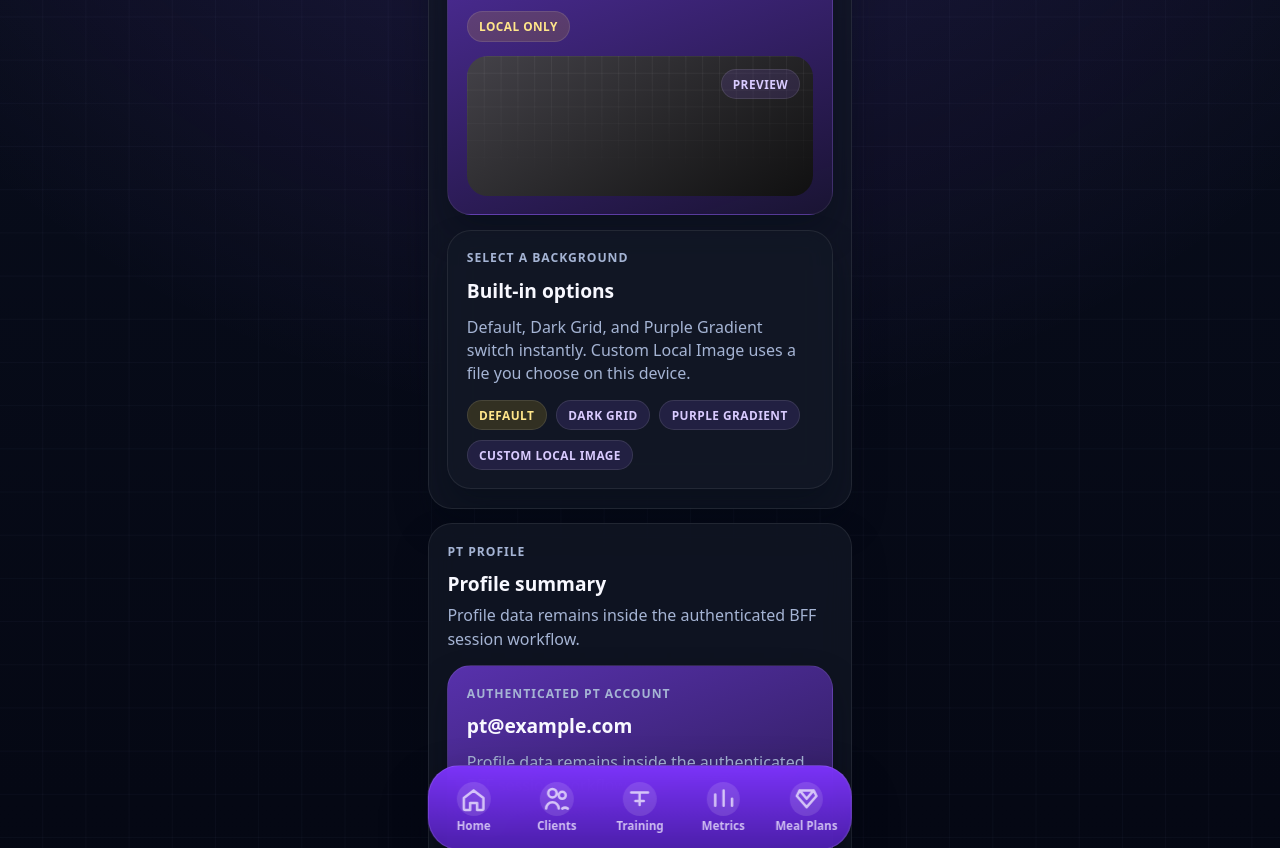
Scenario: PTSettingsPage mobile experience › preserves the existing /api/me PATCH payload shape and success feedback
(page scrolled)
Click the button "Dark Grid" at (603, 415), box [556,400,650,430]
(page scrolled)
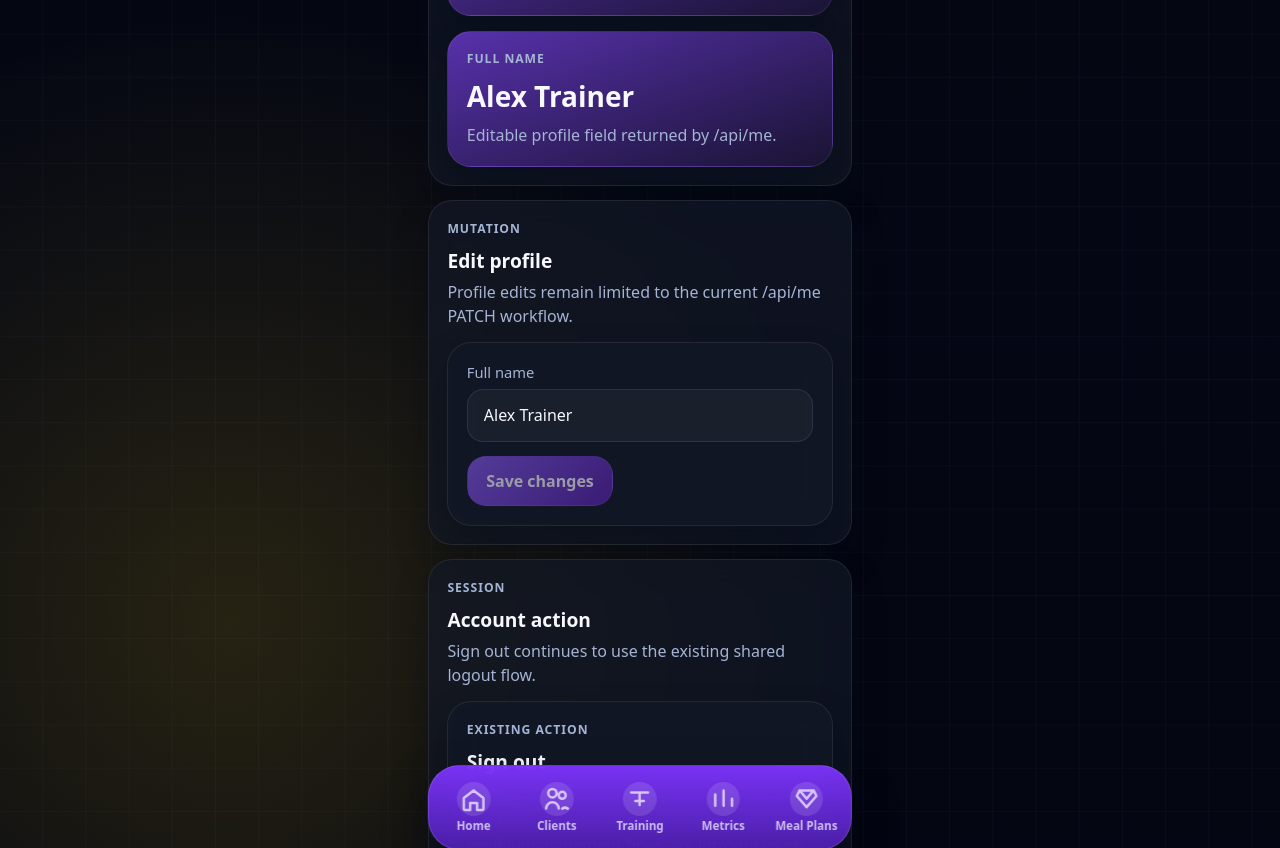
Replace the text in the field labelled "Full name" with "Alex Prime" at (640, 415), box [467,388,813,441]
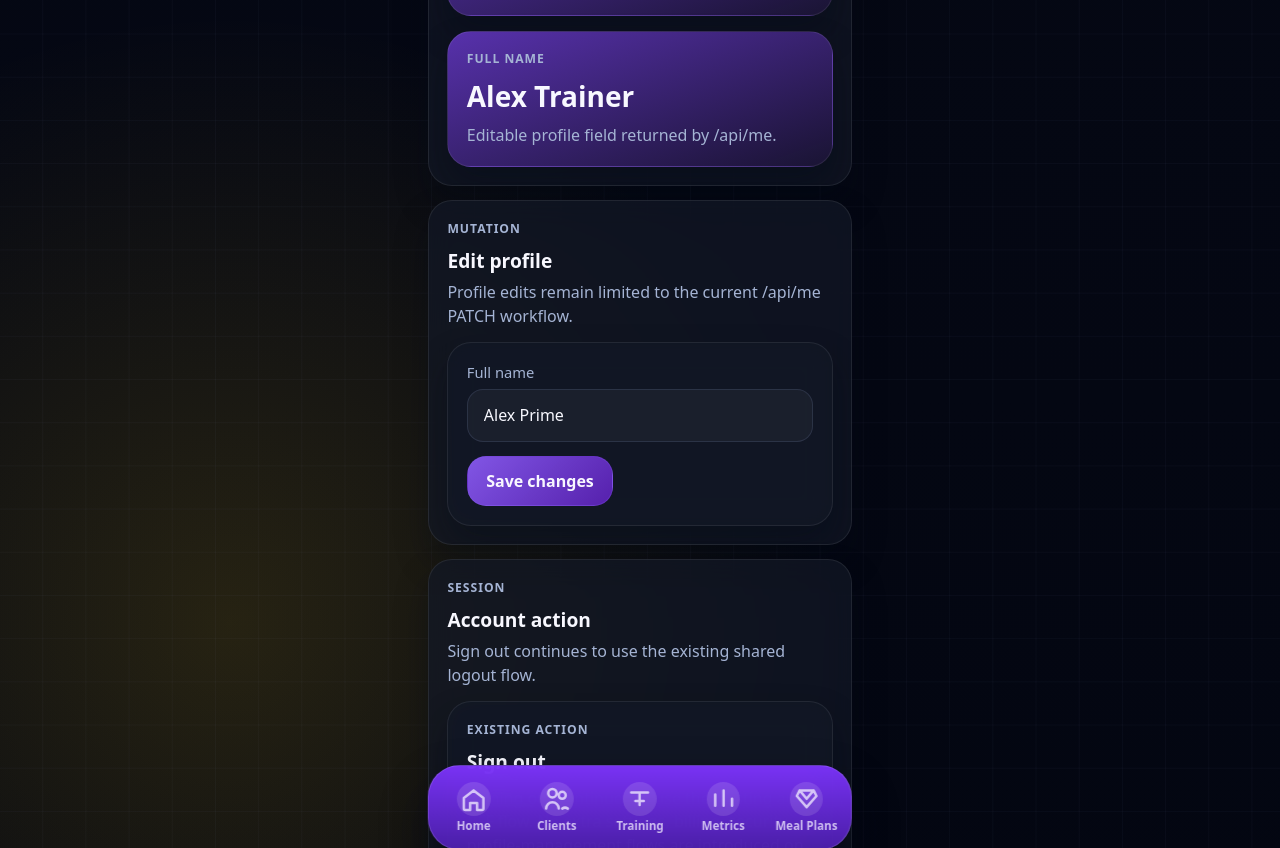
Click the button "Save changes" at (540, 481), box [467,456,613,506]
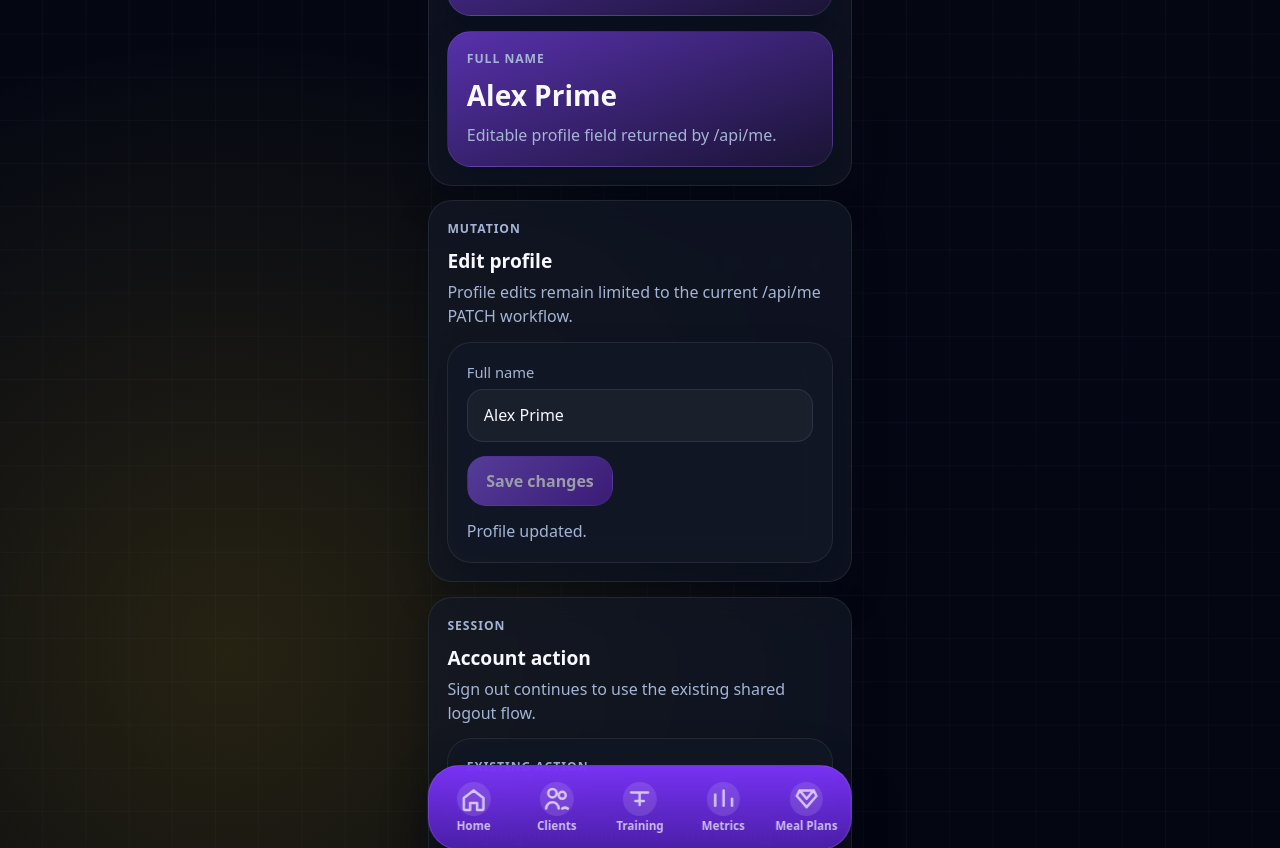
expect the text "Profile updated." is shown: met, box [467,520,587,542]
